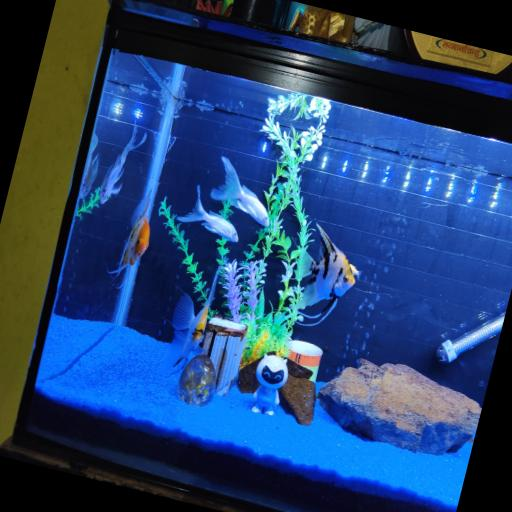Fish: (298, 225, 360, 319), (164, 268, 219, 370), (211, 157, 269, 227), (108, 193, 150, 279), (100, 126, 146, 204), (177, 186, 238, 242), (79, 134, 99, 199)
